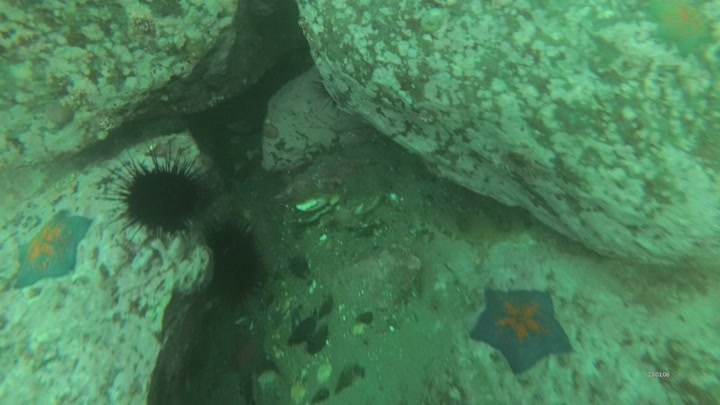echinus: (99, 143, 225, 246), (196, 211, 271, 316)
starfish: (469, 283, 577, 379), (12, 207, 96, 293), (645, 1, 720, 60), (229, 328, 280, 393)
